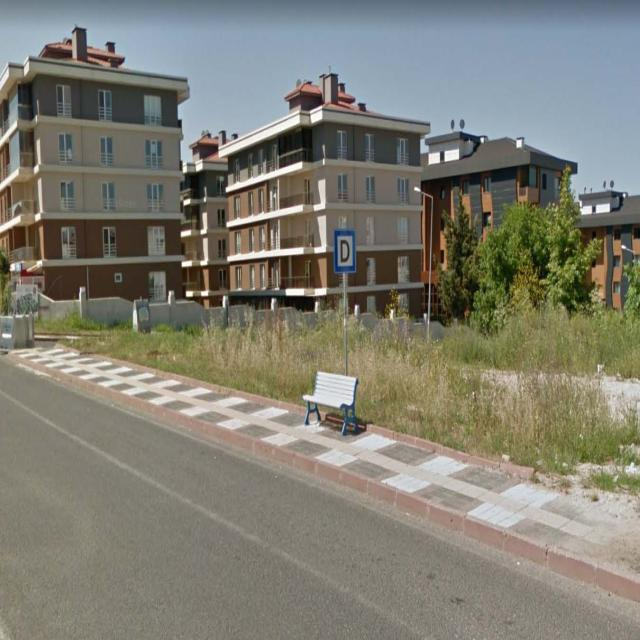durak: (334, 230, 356, 272)
